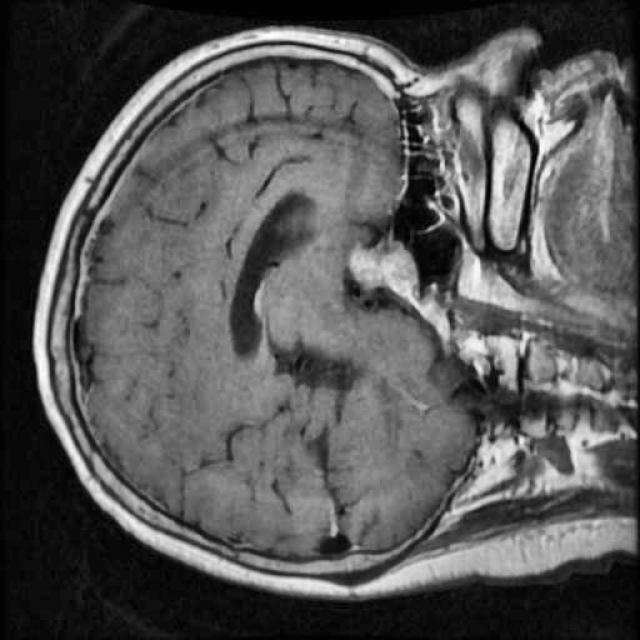Tumor: (328, 231, 432, 306)
